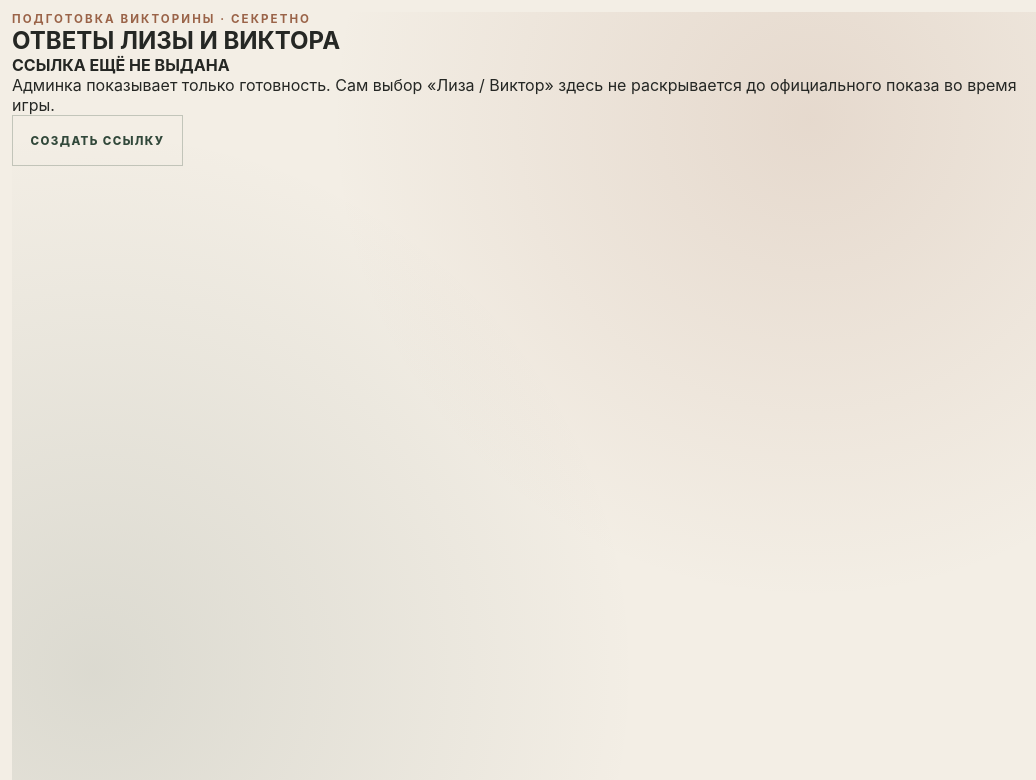
it: AdminCouplePreanswersPanel › issues a fresh URL and refreshes only the completion status
Click the button "СОЗДАТЬ ССЫЛКУ": (98, 141) x1=12 y1=115 x2=183 y2=166
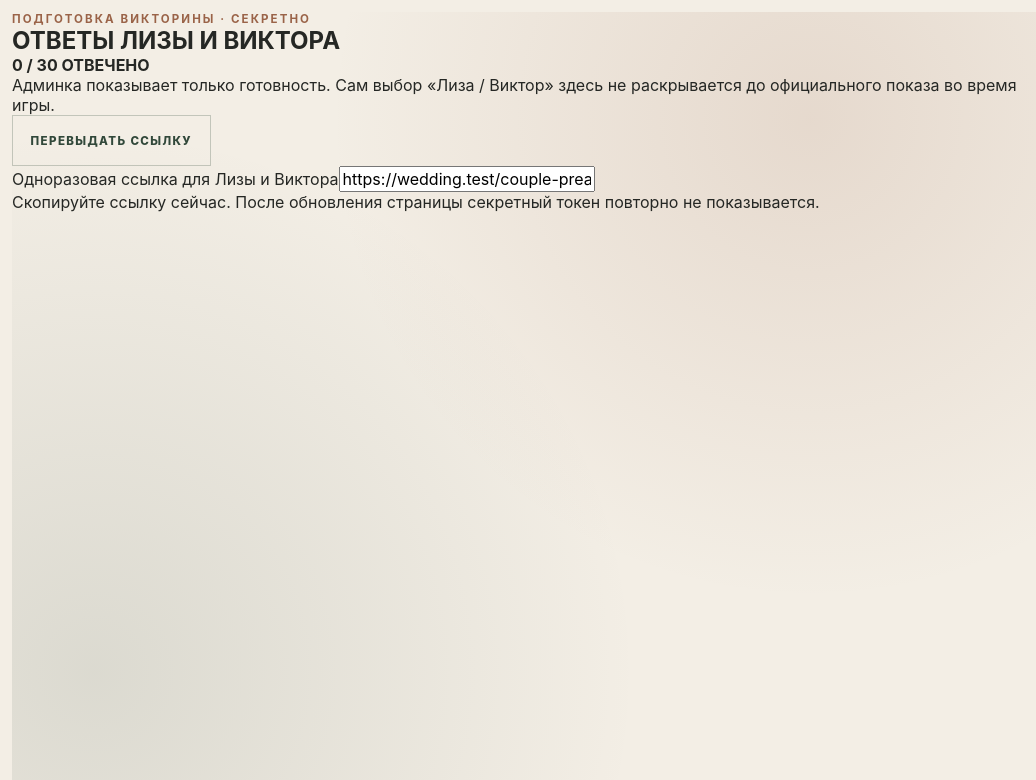
Expected: the field showing "https://wedding.test/couple-preanswers?token=secret-token" is shown, x1=339 y1=166 x2=595 y2=192
Expected: the text "Скопируйте ссылку сейчас. После обновления страницы секретный токен повторно не показывается." is shown, x1=12 y1=192 x2=820 y2=212
